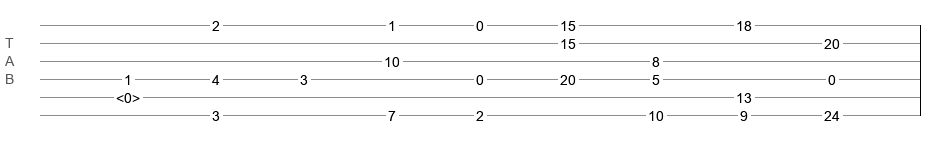0: (476, 72, 484, 82), (476, 18, 484, 28), (828, 72, 836, 82)
1: (124, 72, 132, 82), (388, 18, 396, 28)
10: (384, 54, 400, 64), (648, 108, 664, 118)
13: (736, 90, 752, 100)
15: (560, 18, 576, 28), (560, 36, 576, 46)
18: (736, 18, 752, 28)
2: (212, 18, 220, 28), (476, 108, 484, 118)
20: (560, 72, 576, 82), (824, 36, 840, 46)
24: (824, 108, 840, 118)
3: (212, 108, 220, 118), (300, 72, 308, 82)
4: (212, 72, 220, 82)
5: (652, 72, 660, 82)
7: (388, 108, 396, 118)
8: (652, 54, 660, 64)
9: (740, 108, 748, 118)
harmonic: (116, 90, 140, 100)
